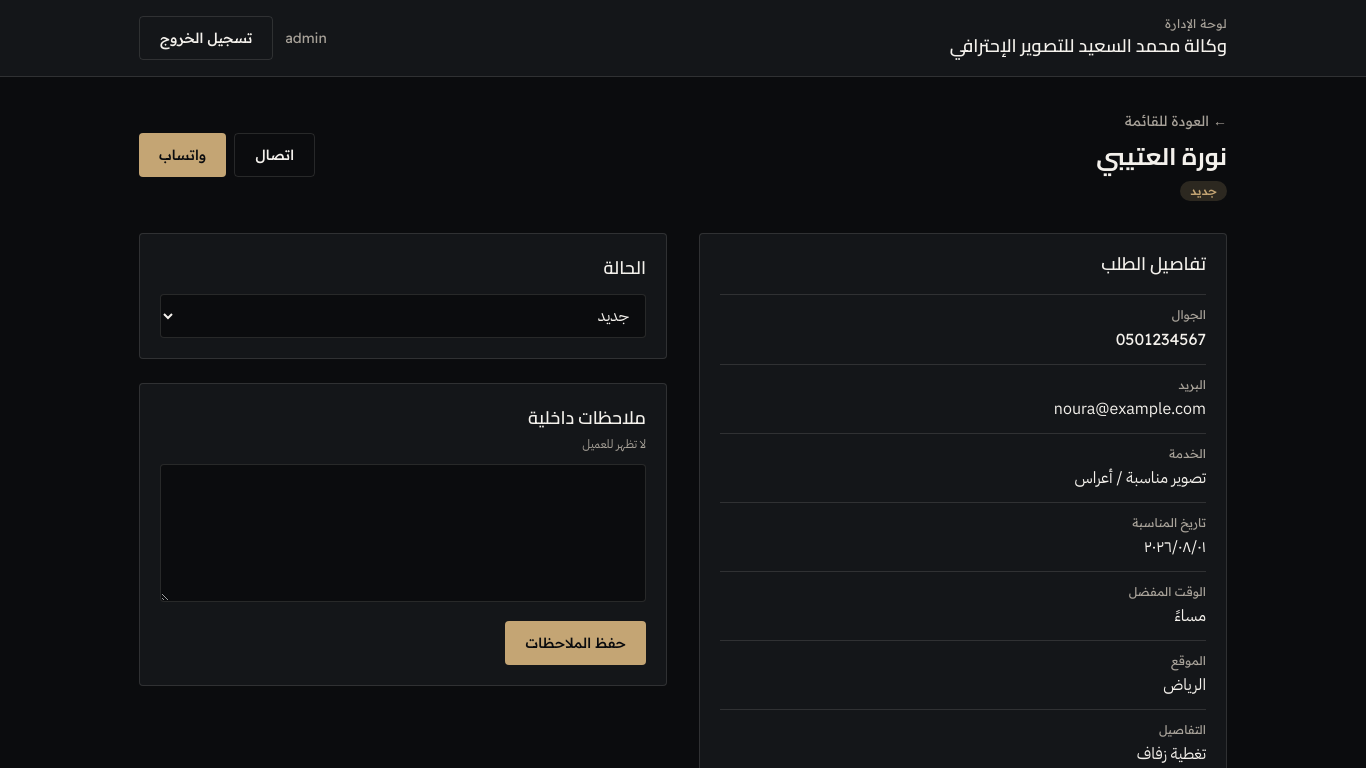
Test: Admin dashboard › shows detail with status and notes controls when authenticated
Expected: the heading "نورة العتيبي" is shown, [1096,141,1227,173]
Expected: the text "تغطية زفاف" is shown, [1137,742,1206,766]
Select "تم التواصل" in the dropdown named "تحديث الحالة" at (403, 316), box [160,294,646,338]
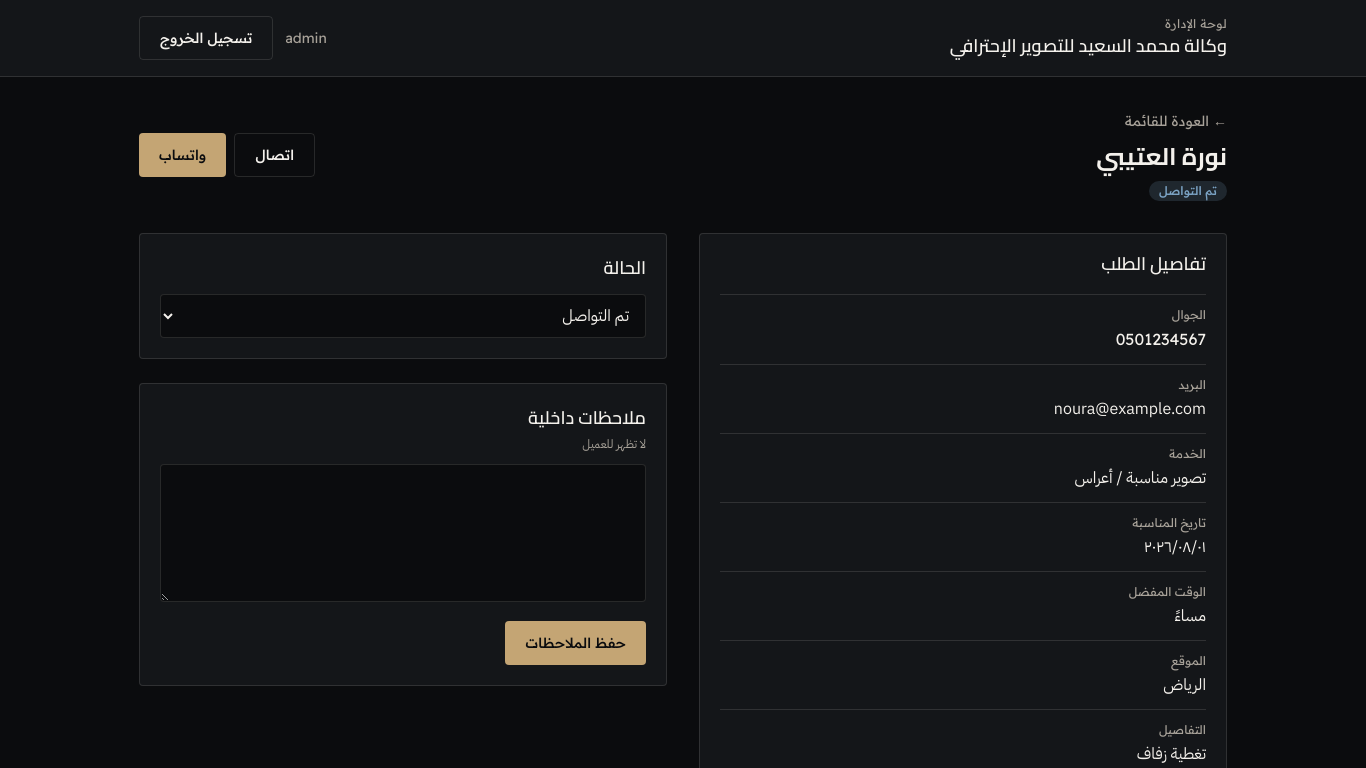
Type "تم الاتصال صباحاً" into the text box named "الملاحظات الداخلية".
click(403, 533); type("تم الاتصال صباحاً")  # box [160,464,646,602]
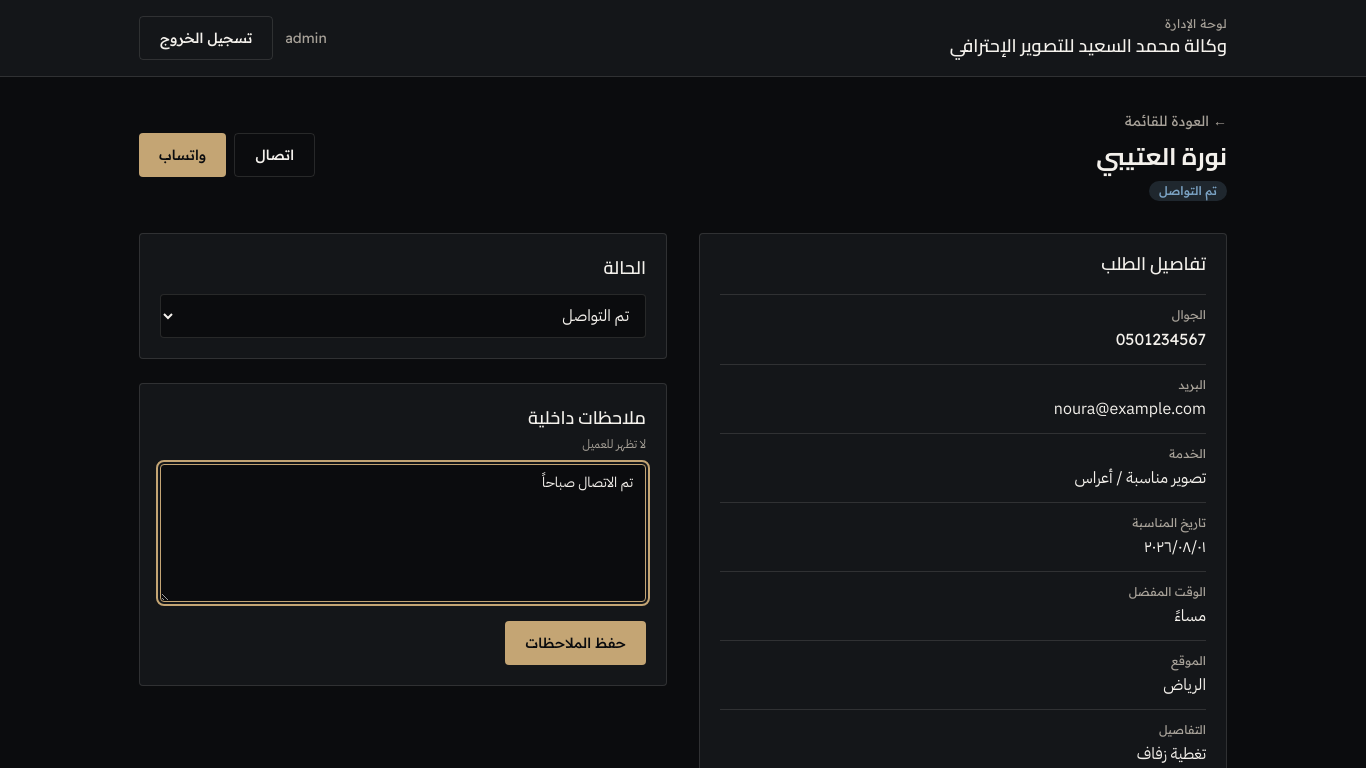
Click the button "حفظ الملاحظات".
click(576, 643)  # box [506,621,646,665]
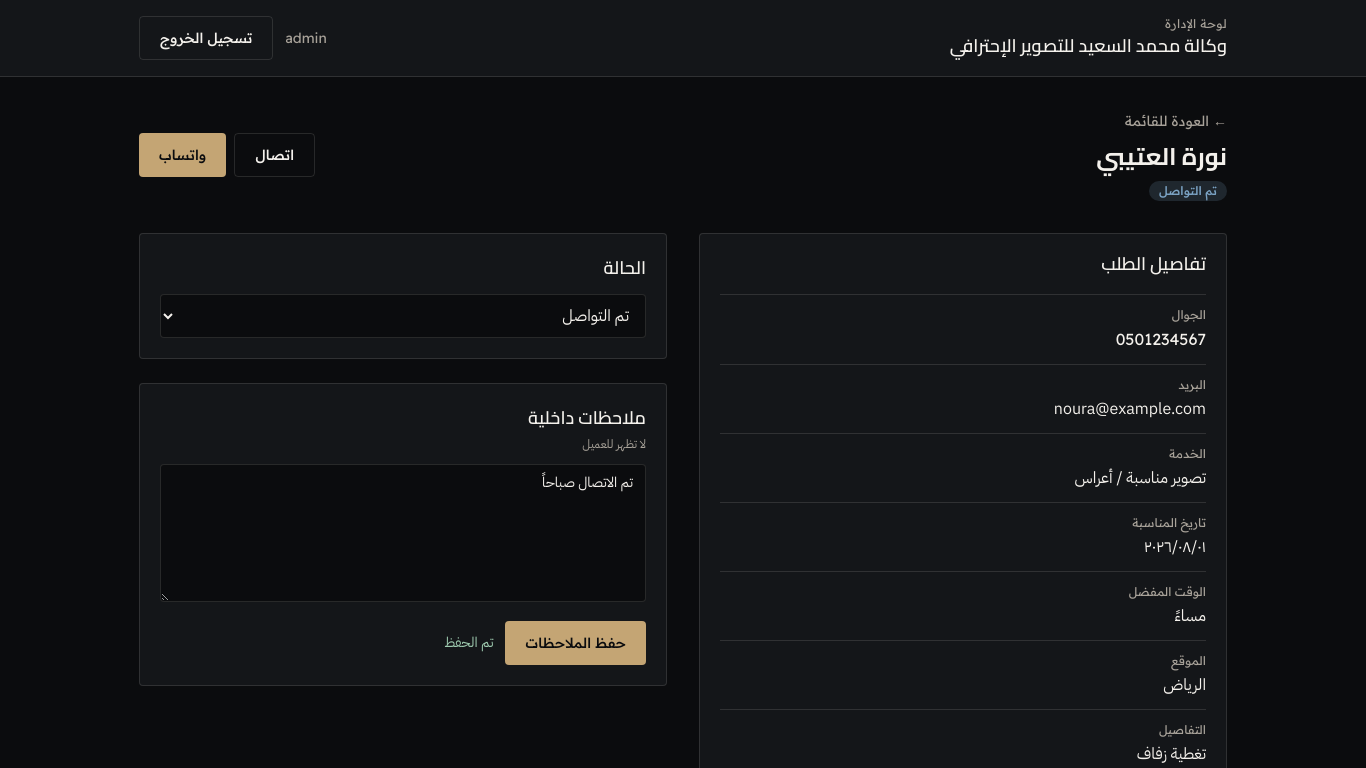
Result: the text "تم الحفظ" is shown at [444,633,494,653]
